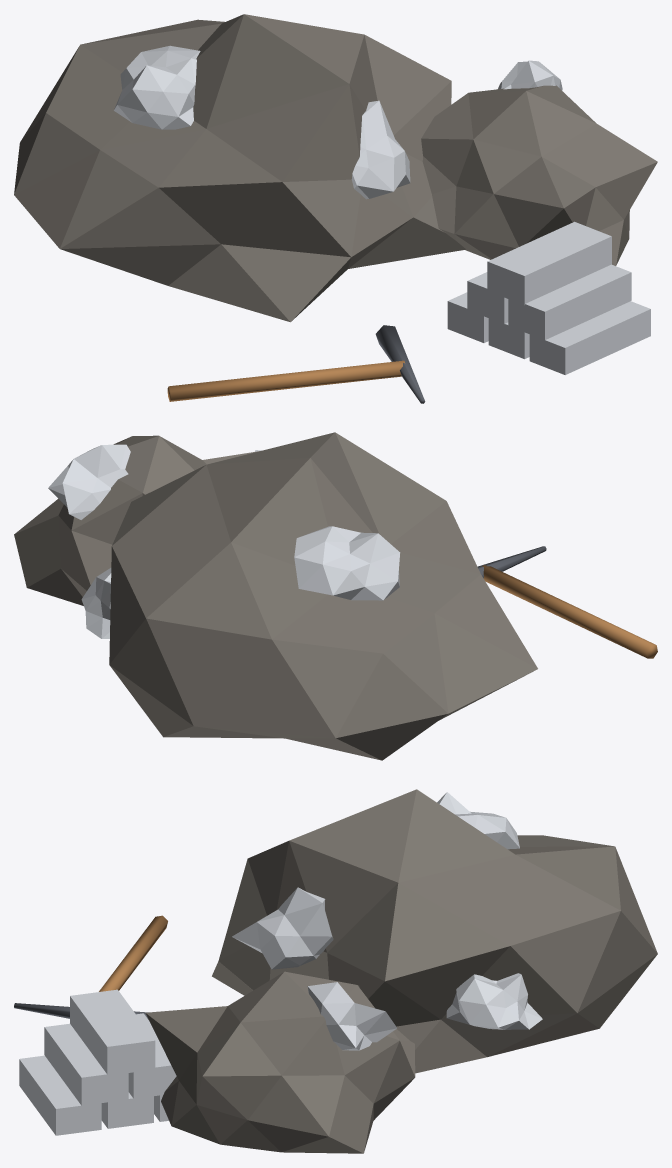
Rendered from resource_silver.fbx.
3 renders of one model, top to bottom at view 1: azimuth 30°, elevation 25°; view 2: azimuth 150°, elevation 25°; view 3: azimuth 270°, elevation 25°, orthographic. The views are drawn at different scales.
Parts seen in each view (by area): view 1: resource_silver_rock#7a756e.001_00, resource_silver_silver_01, resource_silver_wood#b08050.003_02, resource_silver_pickiron.002_03; view 2: resource_silver_rock#7a756e.001_00, resource_silver_silver_01, resource_silver_wood#b08050.003_02, resource_silver_pickiron.002_03; view 3: resource_silver_rock#7a756e.001_00, resource_silver_silver_01, resource_silver_wood#b08050.003_02, resource_silver_pickiron.002_03.
Part boxes in pixels (x1,y1,x2,y2): resource_silver_rock#7a756e.001_00: [14, 14, 657, 322]; resource_silver_silver_01: [114, 45, 650, 374]; resource_silver_wood#b08050.003_02: [167, 360, 405, 401]; resource_silver_pickiron.002_03: [375, 325, 425, 403]; resource_silver_rock#7a756e.001_00: [14, 432, 537, 760]; resource_silver_silver_01: [48, 444, 400, 638]; resource_silver_wood#b08050.003_02: [482, 565, 657, 658]; resource_silver_pickiron.002_03: [478, 546, 546, 577]; resource_silver_rock#7a756e.001_00: [145, 789, 657, 1153]; resource_silver_silver_01: [19, 792, 542, 1135]; resource_silver_wood#b08050.003_02: [99, 915, 167, 991]; resource_silver_pickiron.002_03: [14, 1003, 148, 1019].
Bounding box in the file's own units: 93.09 × 39.87 × 97.35.
